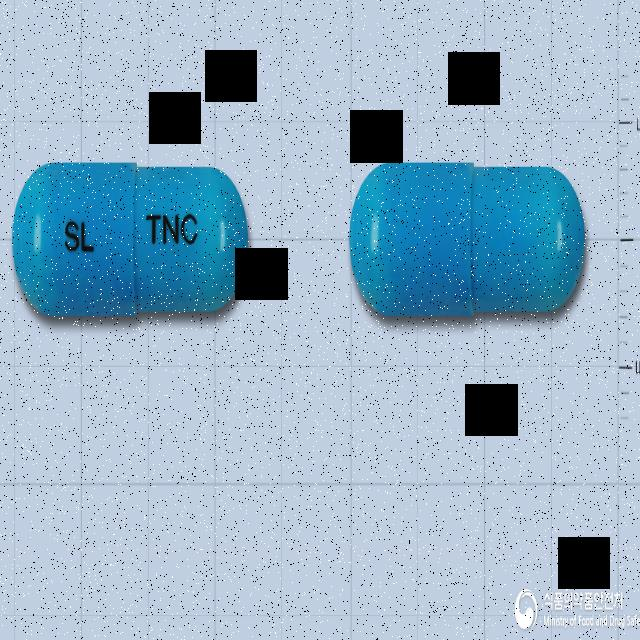Tricyline-N Cap: (13, 158, 249, 320)
